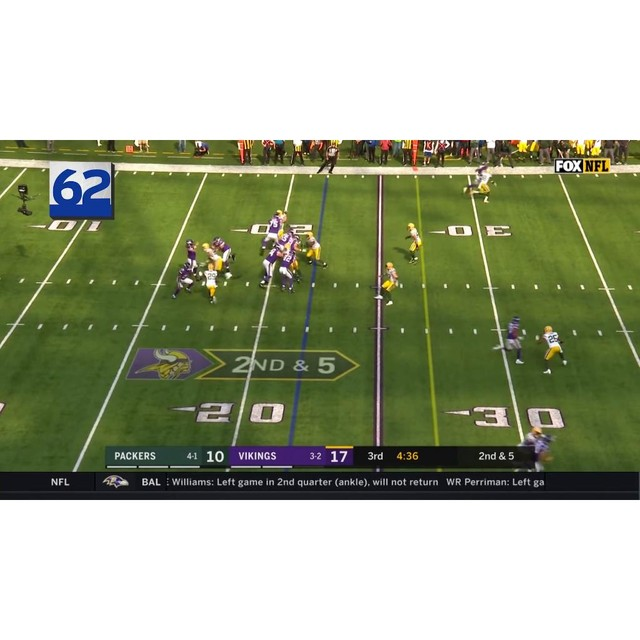american-football-player: (535, 325, 568, 374), (493, 315, 525, 365), (373, 262, 402, 305), (259, 242, 285, 287), (260, 210, 286, 253), (212, 236, 235, 278), (171, 261, 196, 298), (279, 248, 298, 293), (304, 231, 327, 268), (201, 242, 222, 275), (406, 222, 422, 264), (203, 265, 218, 304)
referee: (317, 141, 340, 175)
